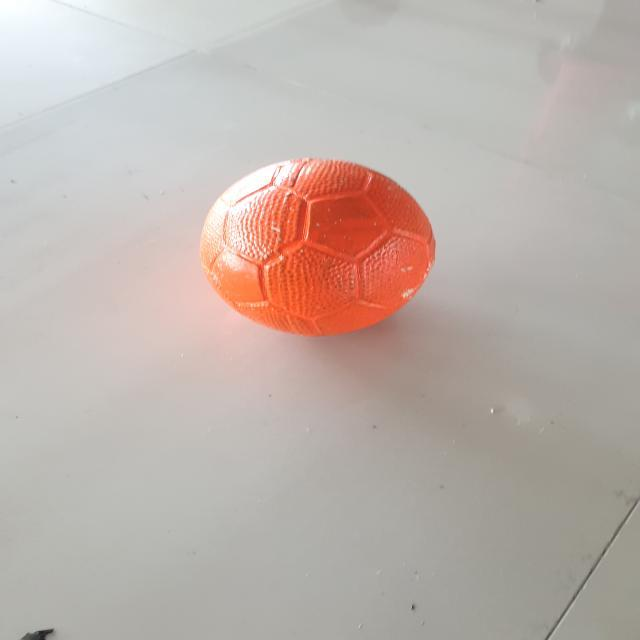bola: (172, 152, 448, 350)
